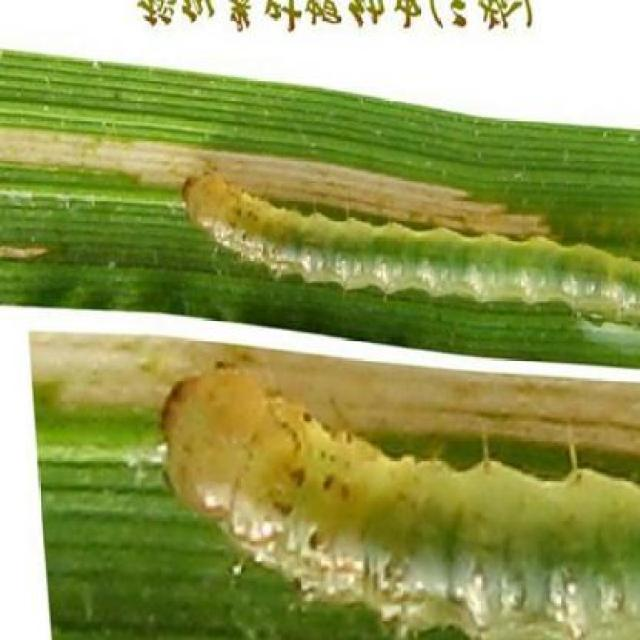leaf-folder: (163, 351, 640, 640), (172, 154, 640, 338)
